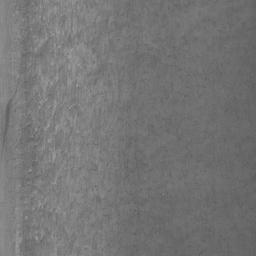Silk spot: (2, 0, 256, 256), (224, 45, 256, 120), (197, 215, 229, 256)
